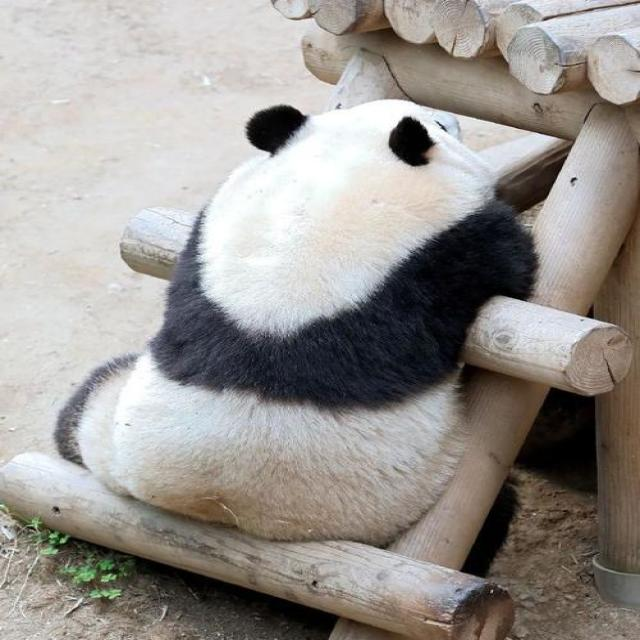panda: (86, 83, 548, 609)
